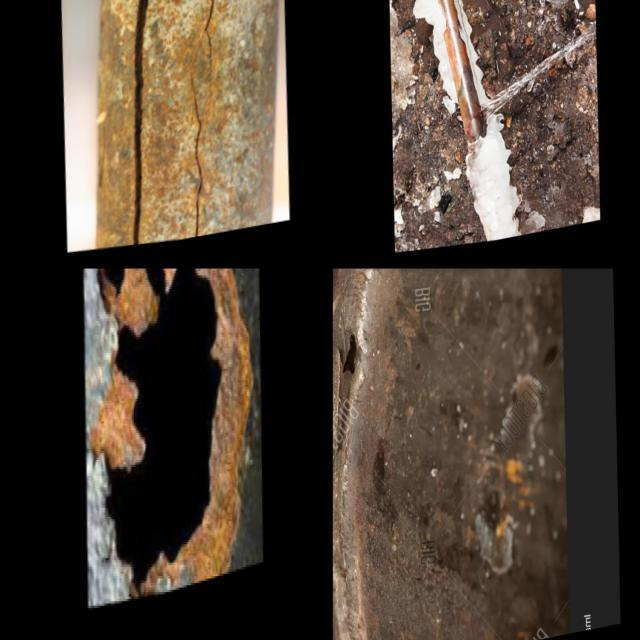crack: (112, 1, 171, 253), (173, 73, 209, 245), (194, 1, 230, 105)
hole: (92, 270, 240, 617), (336, 326, 367, 393), (98, 270, 140, 317)
rupture: (474, 110, 484, 136)
